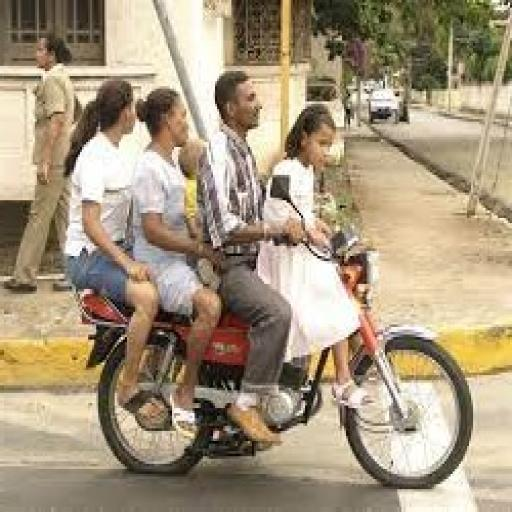overloading: (70, 216, 475, 489)
